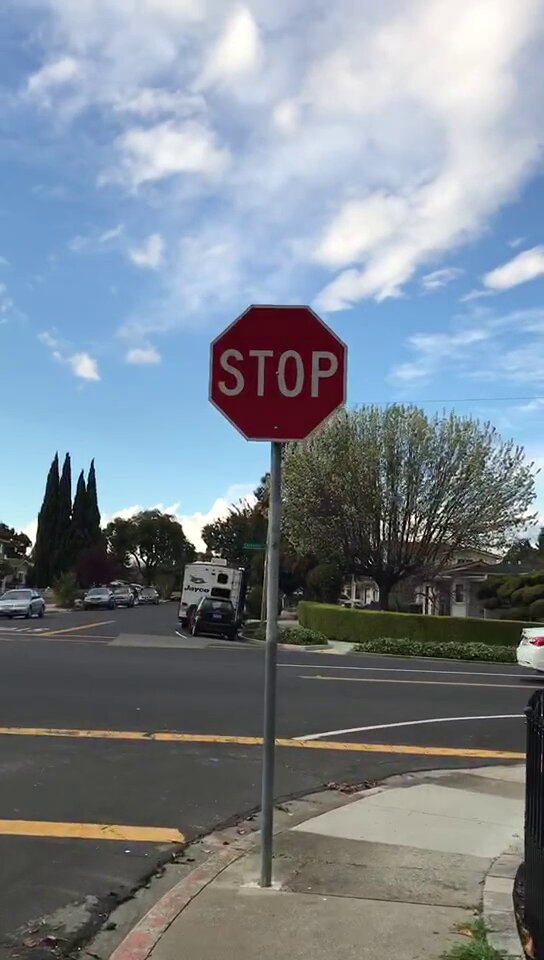stop_sign: (213, 306, 347, 444)
